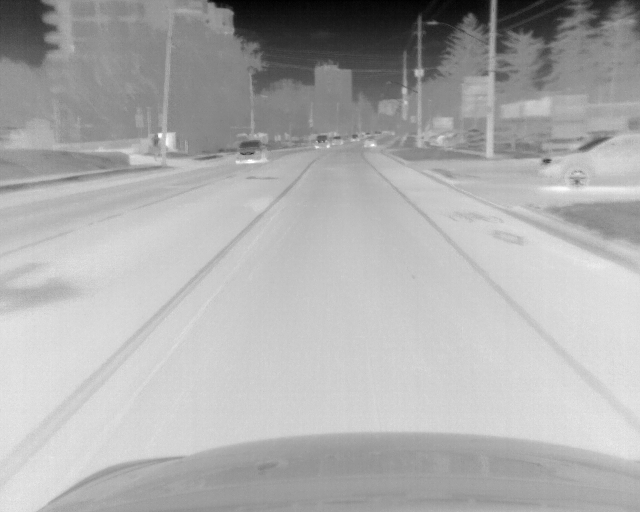car: (536, 129, 640, 190), (235, 140, 267, 164), (314, 135, 329, 149), (363, 137, 378, 149), (331, 135, 342, 146), (351, 133, 359, 142), (373, 129, 382, 137), (363, 131, 370, 137)
